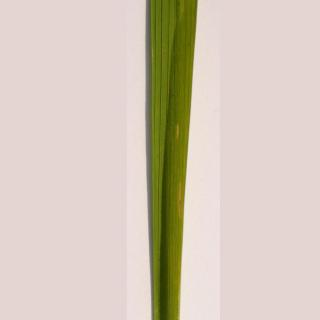Hawar-Daun: (176, 173, 190, 233), (173, 121, 185, 147)
